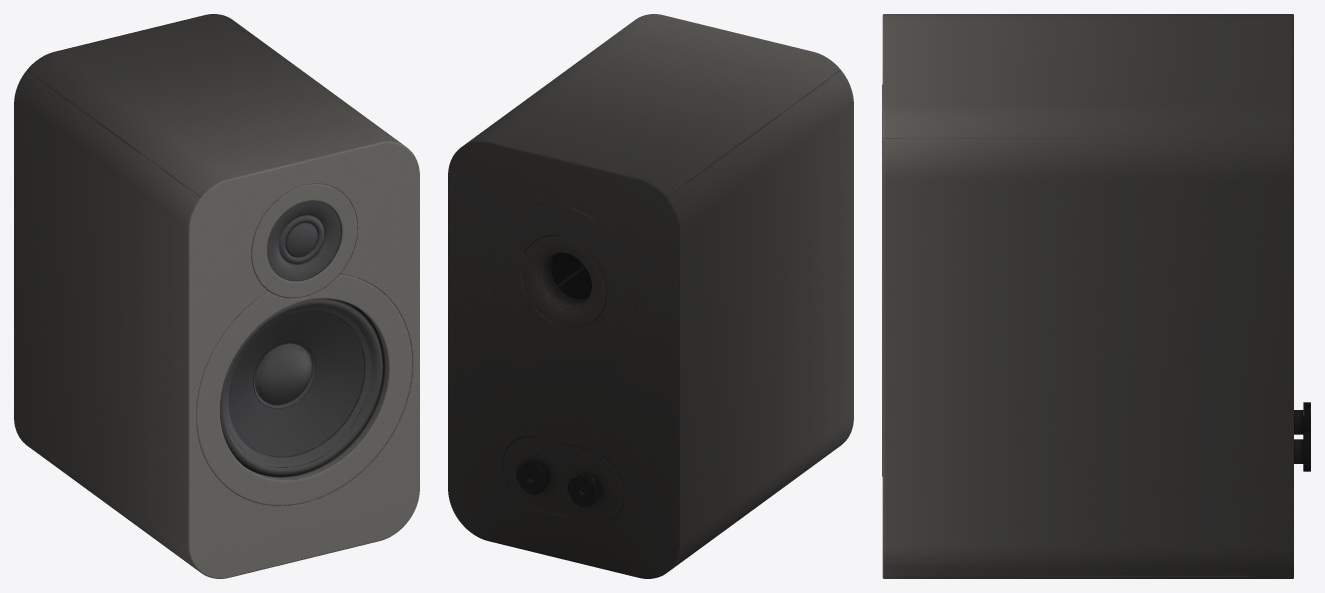
File: elec0071.glb
3 renders of one model, left to right at view 1: azimuth 30°, elevation 25°; view 2: azimuth 150°, elevation 25°; view 3: azimuth 270°, elevation 25°, orthographic. The views are drawn at different scales.
Visible parts, largest first — view 1: bake_Q3020i Bookshelf Speaker.003; view 2: bake_Q3020i Bookshelf Speaker.003; view 3: bake_Q3020i Bookshelf Speaker.003.
Part boxes in pixels (x1,y1,x2,y2): bake_Q3020i Bookshelf Speaker.003: (14,14,419,578); bake_Q3020i Bookshelf Speaker.003: (448,14,853,578); bake_Q3020i Bookshelf Speaker.003: (882,14,1310,578).
Size of the model in its own units: 162 by 268 by 220.
Materials: 5 (5 with a texture image).
